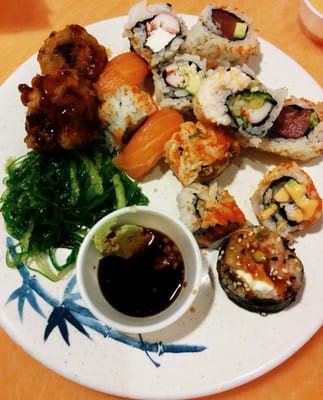sushi: (75, 207, 204, 334)
